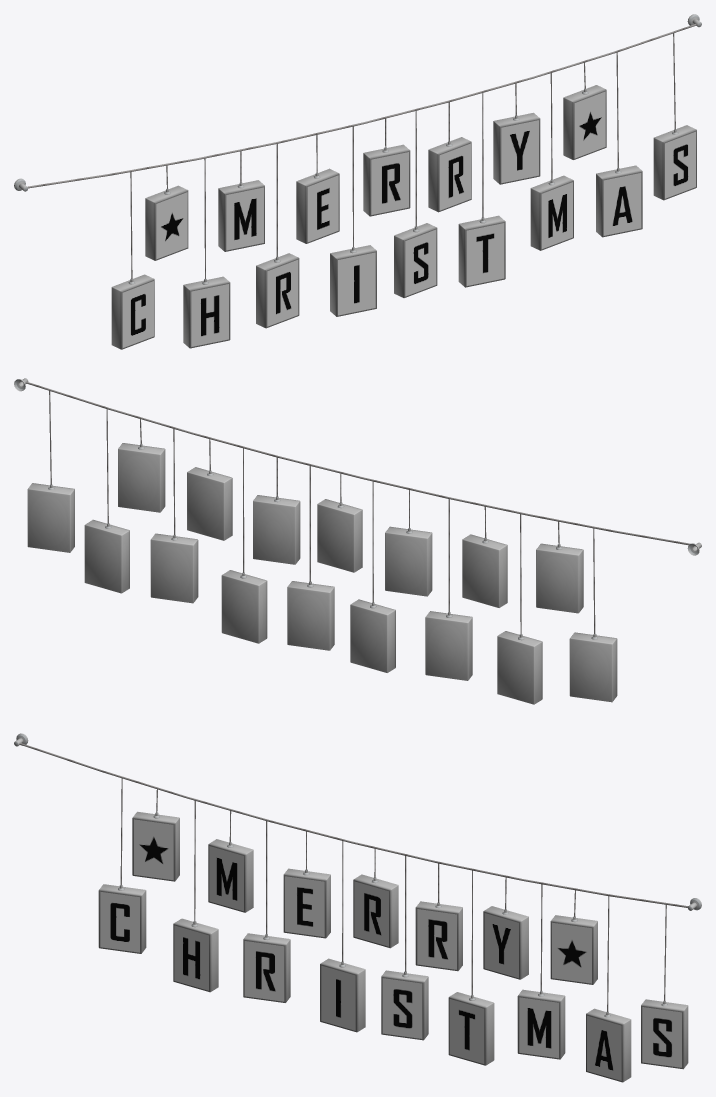
Rendered from LettersLightBox01_GR5.FBX.
The picture shows the model from 3 angles, top to bottom: view 1: azimuth 30°, elevation 25°; view 2: azimuth 150°, elevation 25°; view 3: azimuth 330°, elevation 25°; orthographic projection.
Parts seen in each view (by area): view 1: LettersLightBox01_GR5; view 2: LettersLightBox01_GR5; view 3: LettersLightBox01_GR5.
Part boxes in pixels (<box>): LettersLightBox01_GR5: <box>14,14,701,349</box>; LettersLightBox01_GR5: <box>14,378,701,704</box>; LettersLightBox01_GR5: <box>14,733,701,1082</box>.
Size of what is drawn, in the model's own units: 3.06 by 0.8904 by 0.1003.
